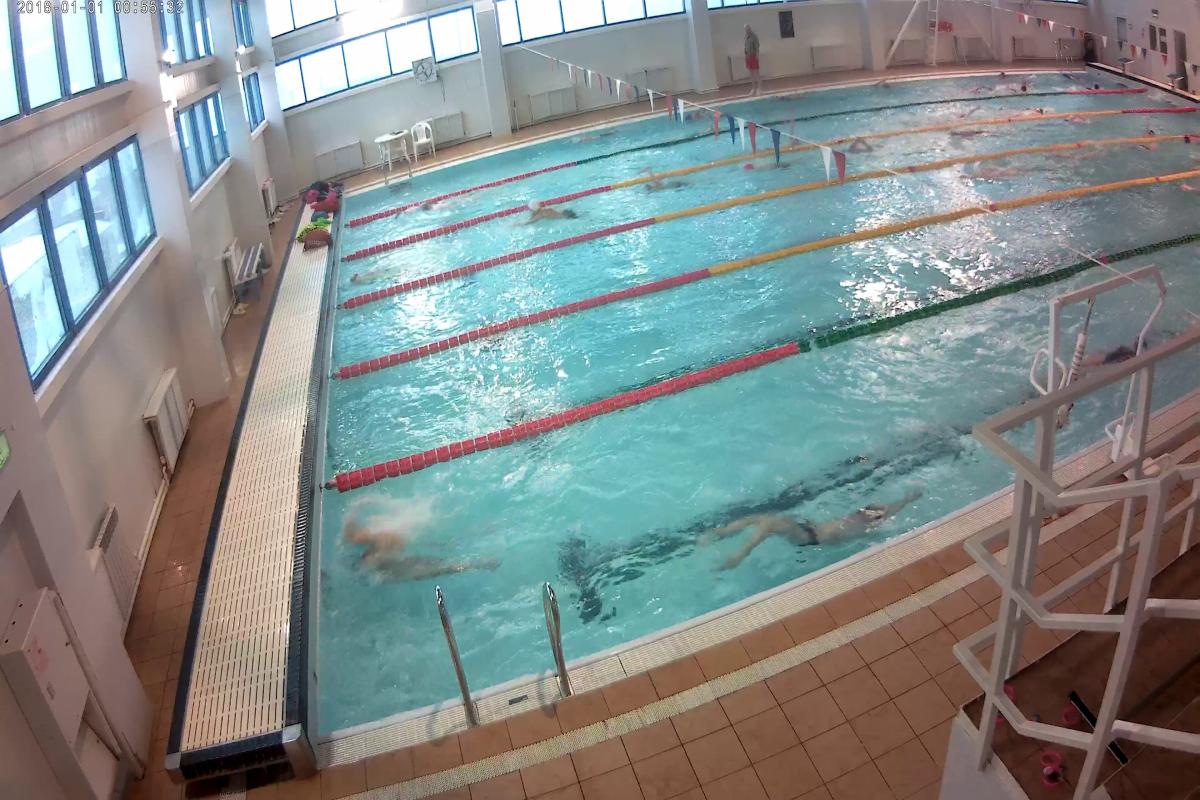swimmer: (728, 499, 908, 541), (341, 524, 471, 576)
